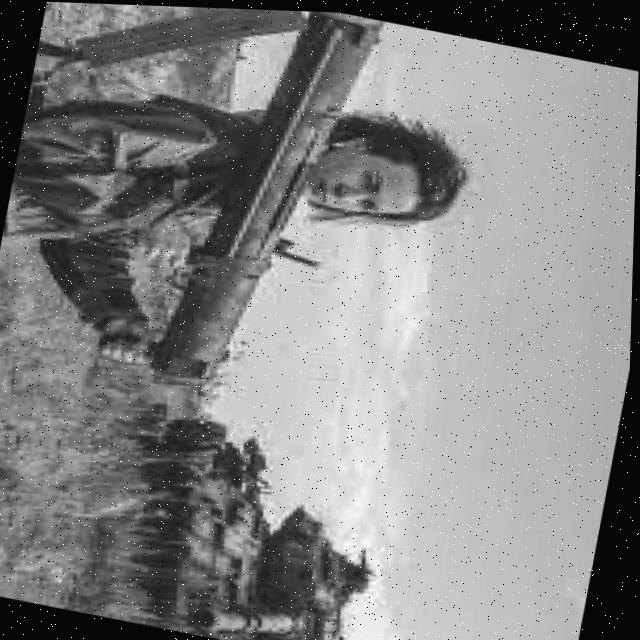rocket: (94, 3, 443, 422)
